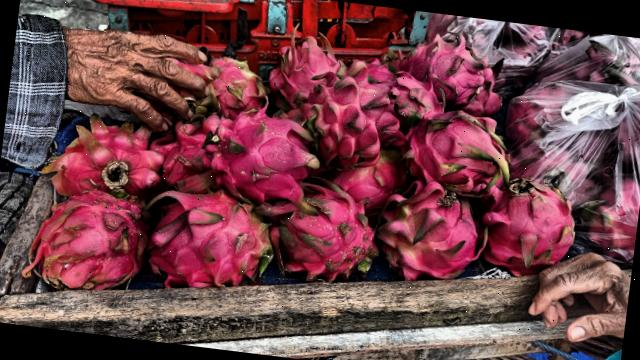buah-naga-belum-matang: (381, 174, 486, 288), (142, 119, 221, 199), (202, 56, 282, 126), (330, 144, 408, 212)
buah-naga-matang: (140, 186, 280, 296), (297, 57, 413, 169), (204, 106, 321, 206), (26, 194, 150, 288), (392, 32, 516, 123), (480, 178, 580, 276), (404, 108, 510, 200), (278, 190, 378, 282), (56, 124, 166, 204), (259, 23, 338, 114)
